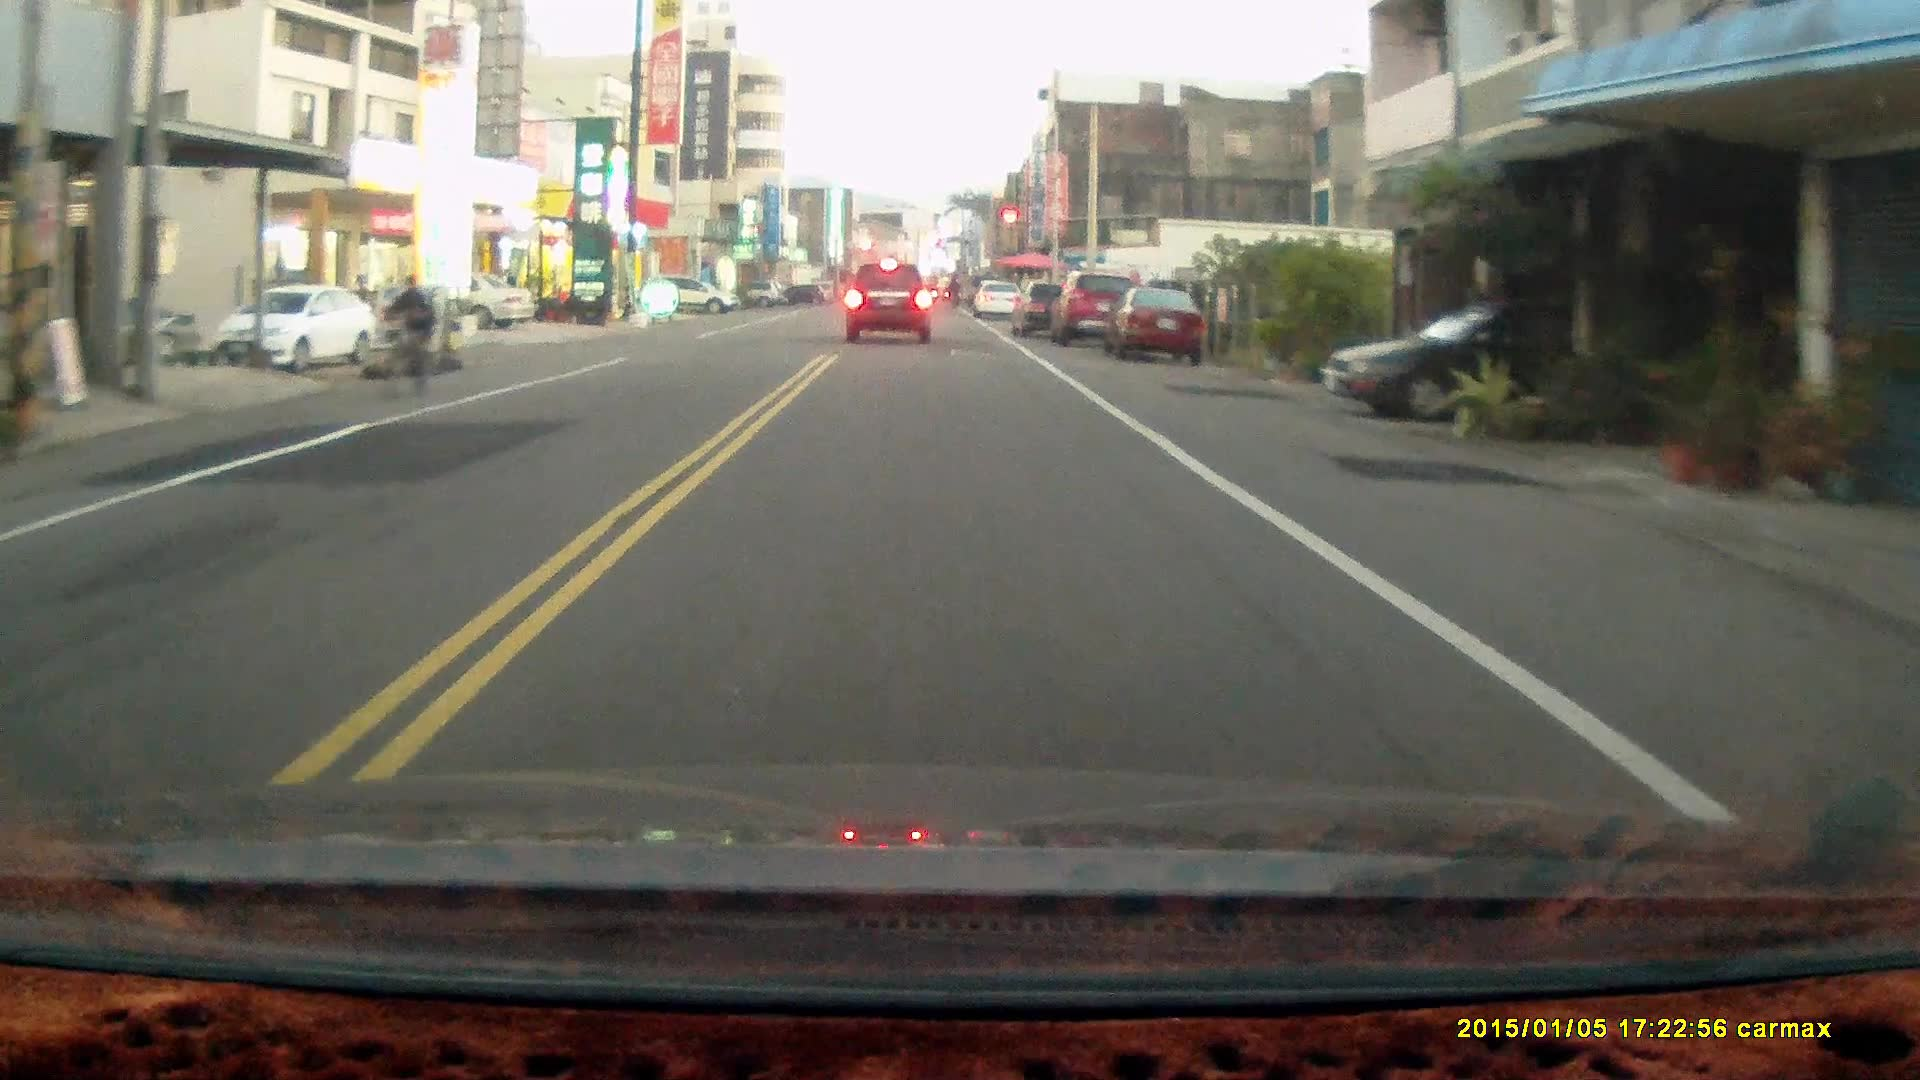rider: (382, 274, 432, 402)
vehicle: (1322, 294, 1722, 420), (218, 288, 378, 378), (1099, 284, 1211, 369), (379, 271, 540, 329), (844, 262, 938, 345), (1052, 272, 1145, 350), (652, 272, 738, 317)
